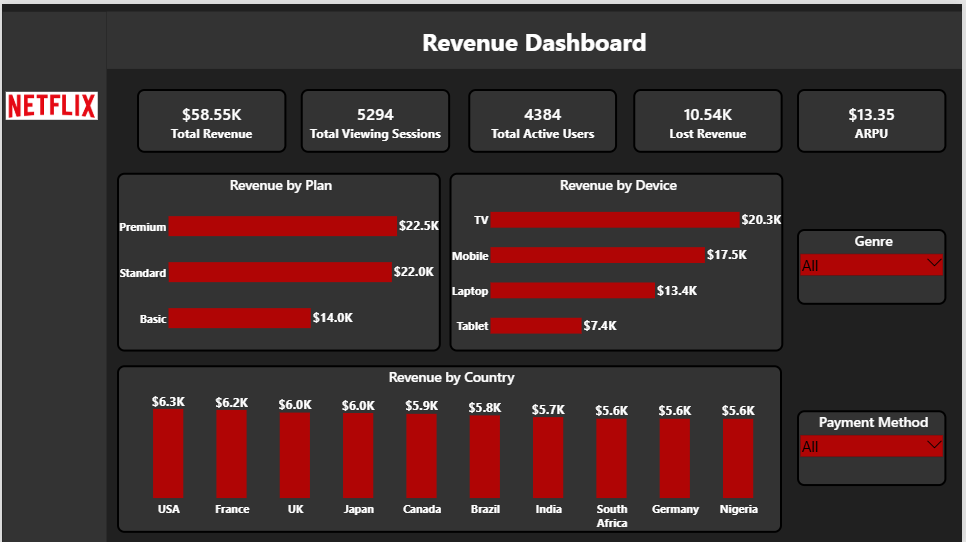

This screenshot's page, from the dashboard's own definition file:
{"tool":"powerbi","page":{"name":"Revenue Dashboard","canvas":[3840,2160],"ordinal":0},"visuals":[{"type":"barChart","title":"Revenue by Plan  ","fields":{"Category":["Netflix_Cleaned_Data.subscription_plan"],"Y":["Netflix_Cleaned_Data.Total Revenue"]},"box":[460,675,1295,715],"z":0},{"type":"shape","box":[0,30.3,419.8,2129.5],"z":1000},{"type":"card","title":"Revenue by Plan  ","fields":{"Values":["Netflix_Cleaned_Data.Total Revenue"]},"box":[541,337.6,597.3,255.4],"z":2000},{"type":"image","box":[17.3,337.6,367.9,134.2],"z":3000},{"type":"textbox","box":[419.8,30.3,3419.3,229.4],"z":4000},{"type":"card","title":"Revenue by Plan  ","fields":{"Values":["Netflix_Cleaned_Data.Total Users"]},"box":[1194.6,337.6,597.3,255.4],"z":5000},{"type":"card","title":"Revenue by Plan  ","fields":{"Values":["Netflix_Cleaned_Data.Total Active Users"]},"box":[1865,340,595,255],"z":6000},{"type":"card","title":"Revenue by Plan  ","fields":{"Values":["Netflix_Cleaned_Data.Lost Revenue"]},"box":[2523.4,337.6,597.3,255.4],"z":7000},{"type":"card","title":"Revenue by Plan  ","fields":{"Values":["Netflix_Cleaned_Data.ARPU"]},"box":[3181.3,337.6,597.3,255.4],"z":8000},{"type":"barChart","title":"Revenue by Device  ","fields":{"Category":["Netflix_Cleaned_Data.device_type"],"Y":["Netflix_Cleaned_Data.Total Revenue"]},"box":[1790,675,1335,715],"z":9000},{"type":"clusteredColumnChart","title":"Revenue by Country","fields":{"Category":["Netflix_Cleaned_Data.country"],"Y":["Netflix_Cleaned_Data.Total Revenue"]},"box":[460,1445,2660,670],"z":10000},{"type":"slicer","title":"Genre","fields":{"Values":["Netflix_Cleaned_Data.genre"]},"box":[3181.3,900.3,597.3,303],"z":11000},{"type":"slicer","title":"Payment Method","fields":{"Values":["Netflix_Cleaned_Data.payment_method"]},"box":[3181.3,1627.4,597.3,303],"z":12000}]}

Visuals, with their boxes in screenshot pixels (x1, y1, x2, y2), scaled from the page's 3840x2160 canvas onto the 966x542 screenshot:
"Revenue by Plan  " barChart: pyautogui.locateOnScreen(116, 169, 441, 349)
shape: pyautogui.locateOnScreen(0, 8, 106, 541)
"Revenue by Plan  " card: pyautogui.locateOnScreen(136, 85, 286, 149)
image: pyautogui.locateOnScreen(4, 85, 97, 118)
textbox: pyautogui.locateOnScreen(106, 8, 965, 65)
"Revenue by Plan  " card: pyautogui.locateOnScreen(301, 85, 451, 149)
"Revenue by Plan  " card: pyautogui.locateOnScreen(469, 85, 619, 149)
"Revenue by Plan  " card: pyautogui.locateOnScreen(635, 85, 785, 149)
"Revenue by Plan  " card: pyautogui.locateOnScreen(800, 85, 951, 149)
"Revenue by Device  " barChart: pyautogui.locateOnScreen(450, 169, 786, 349)
"Revenue by Country" clusteredColumnChart: pyautogui.locateOnScreen(116, 363, 785, 531)
"Genre" slicer: pyautogui.locateOnScreen(800, 226, 951, 302)
"Payment Method" slicer: pyautogui.locateOnScreen(800, 408, 951, 484)
